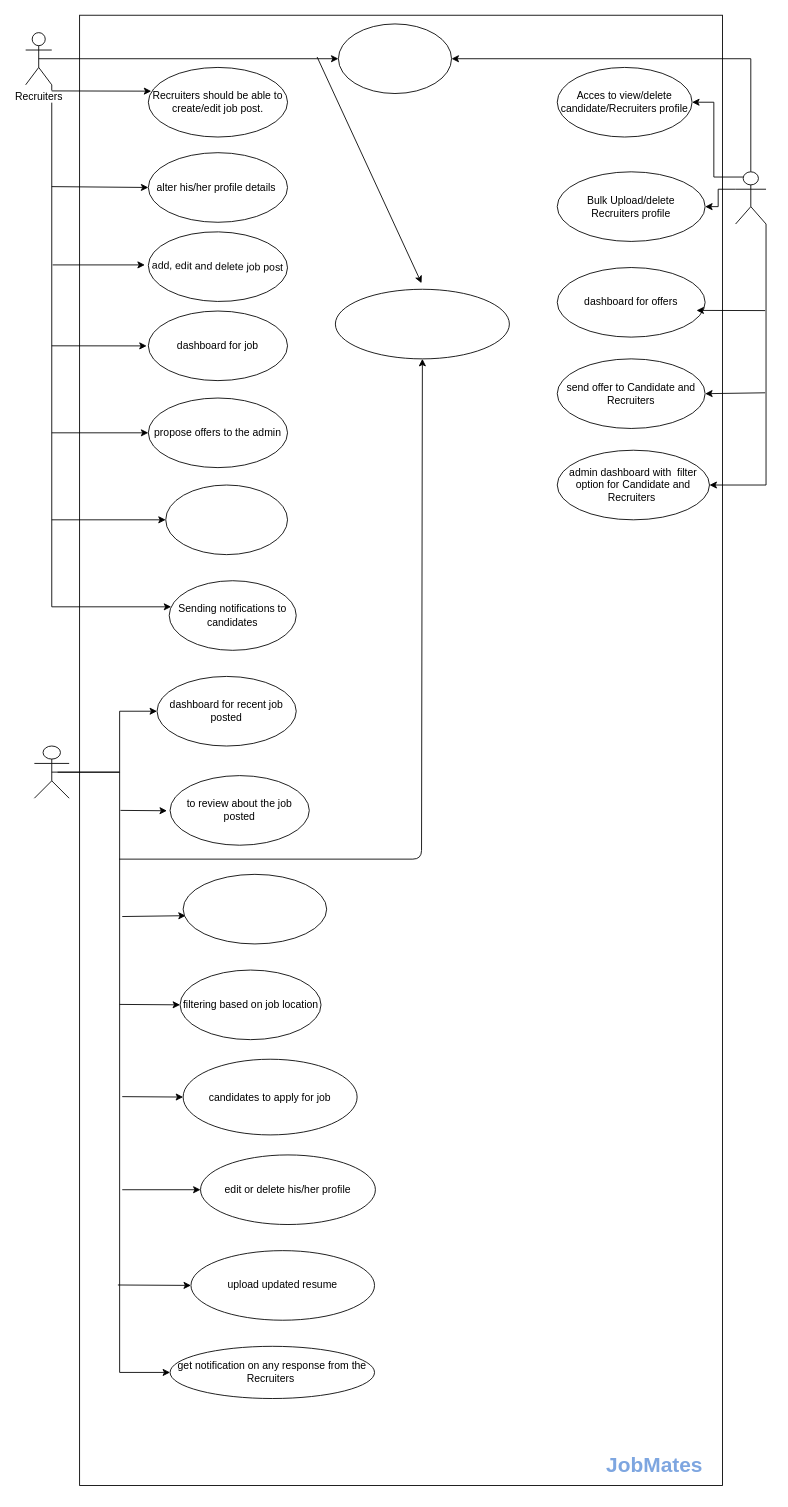
This 788x1507 diagram has some shape labels left out. The box of each missing label's shape, as (x1, y1, x2, y2) in pixels:
Admin: (735, 171, 766, 224)
Candidate: (33, 745, 69, 798)
Report issue: (335, 288, 509, 359)
search candidate profile as per skills: (165, 484, 288, 555)
search for job as per the skills.: (182, 873, 327, 944)
Sign-up/Login: (338, 23, 452, 94)
